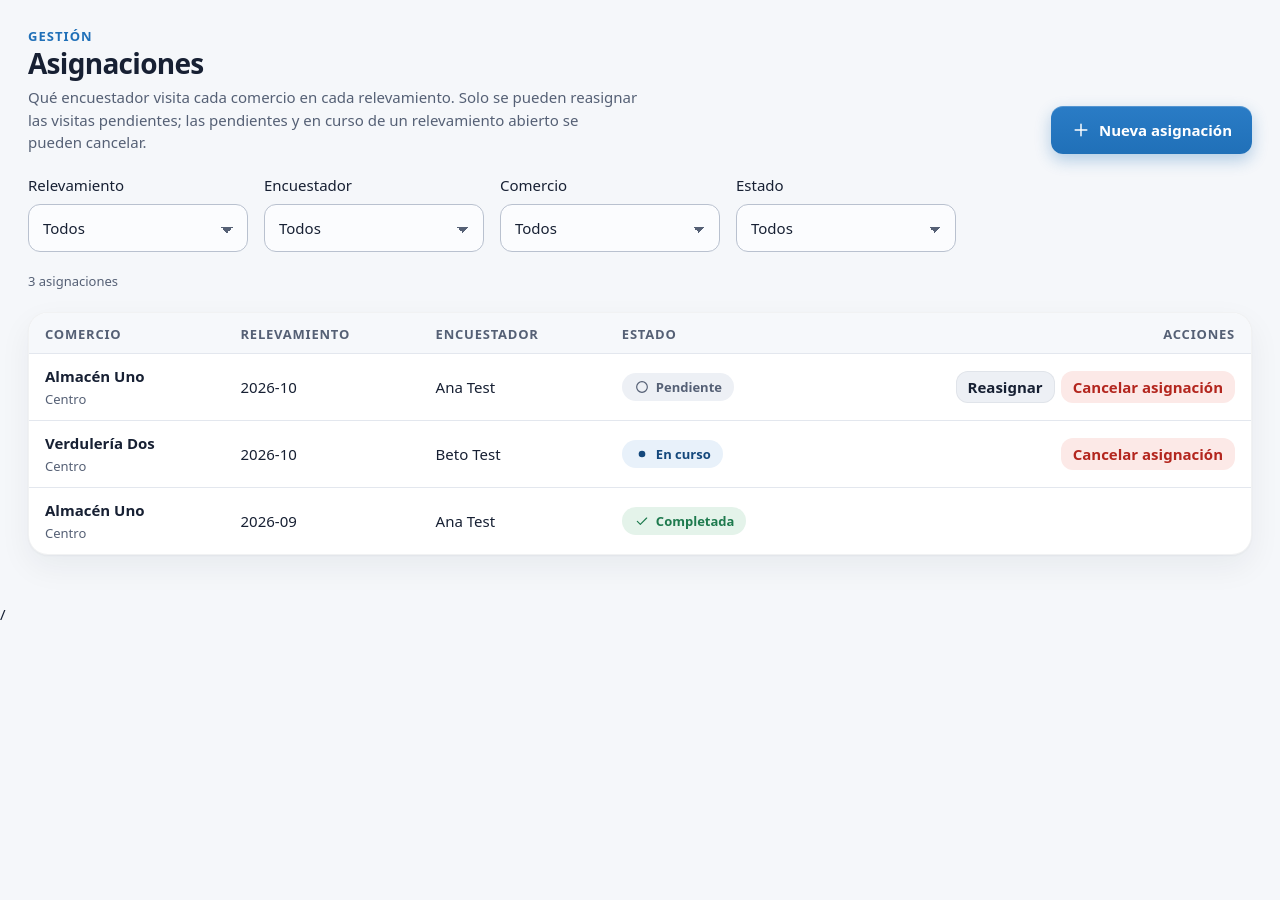
create asignacion, stable codes › RELEVAMIENTO_NOT_ABIERTO marks the relevamiento field, whatever the message says
Click the button "Nueva asignación".
click(1152, 130)  # box [1051, 106, 1252, 154]
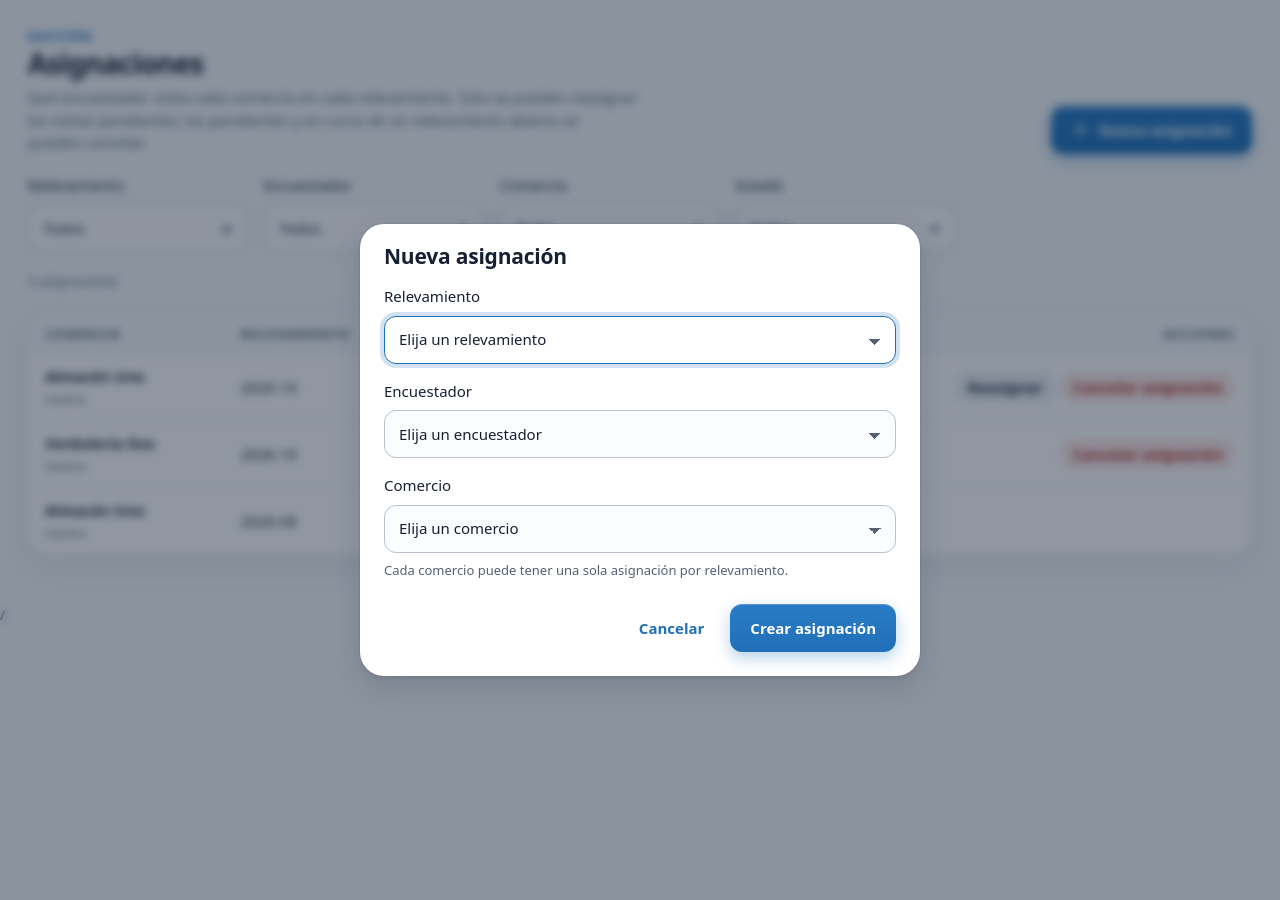
Select "2026-10" in the dropdown labelled "Relevamiento" at (640, 340), box [384, 316, 896, 364]
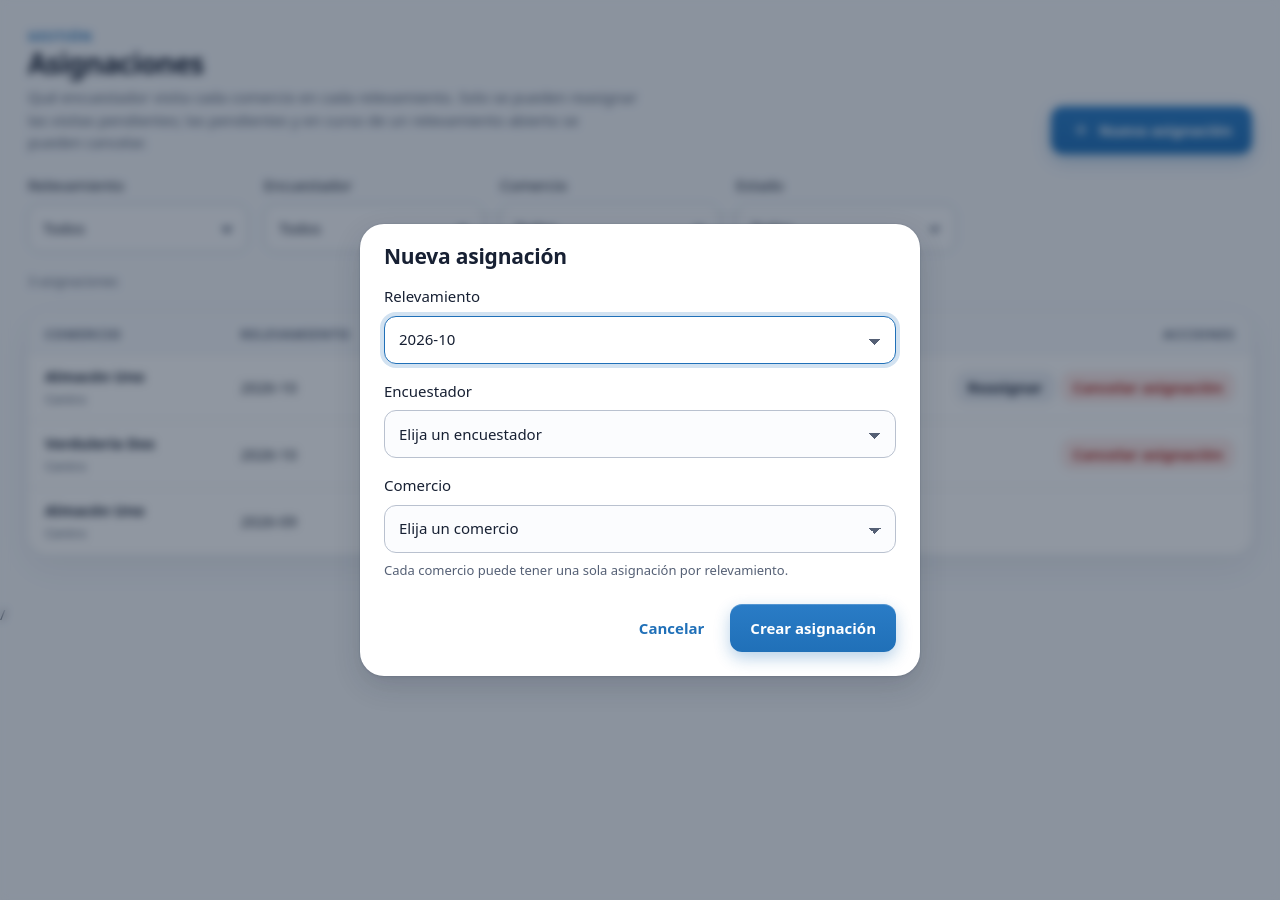
Select "Beto Test" in the dropdown labelled "Encuestador" at (640, 434), box [384, 410, 896, 458]
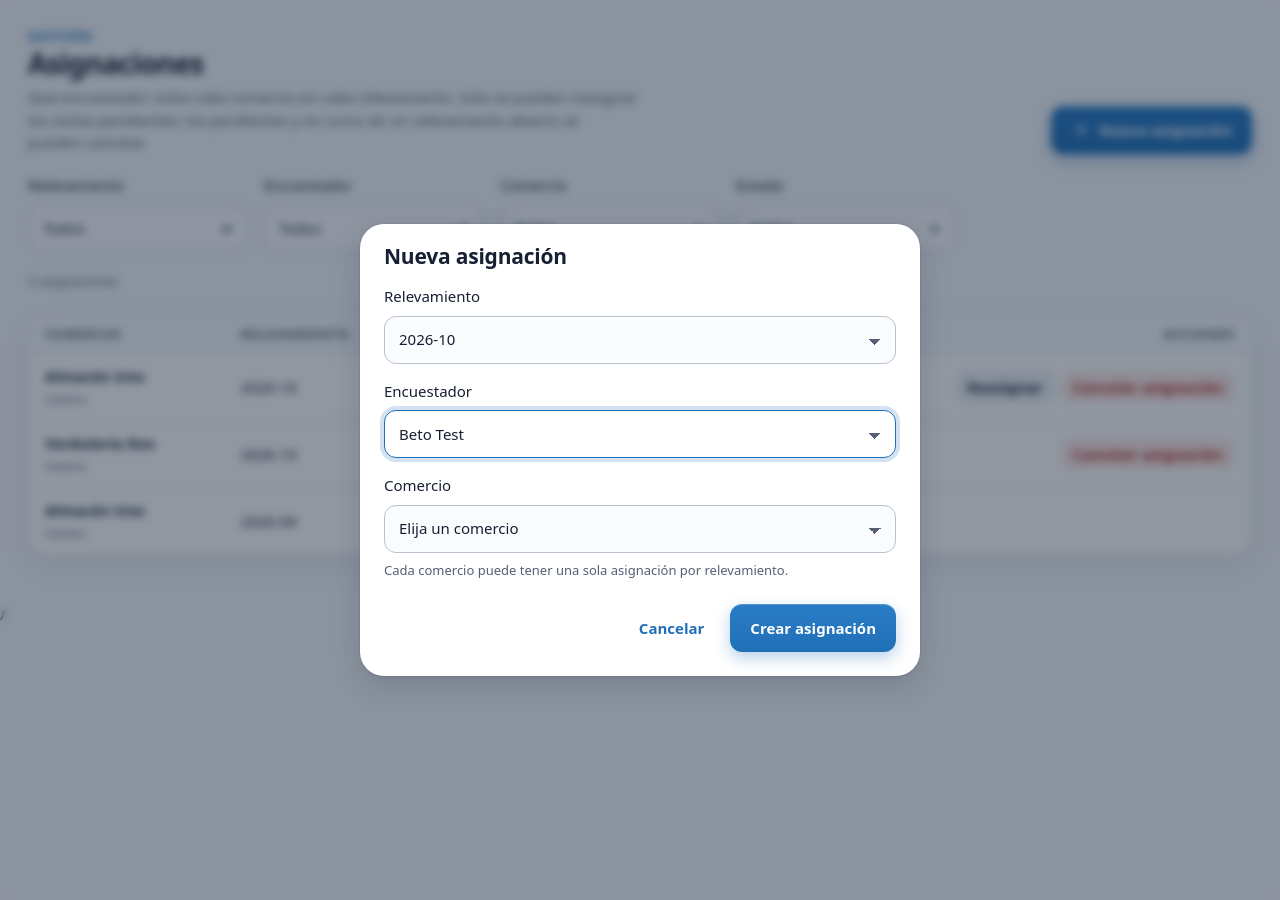
Select "Kiosco Tres (Centro)" in the dropdown labelled "Comercio" at (640, 529), box [384, 505, 896, 553]
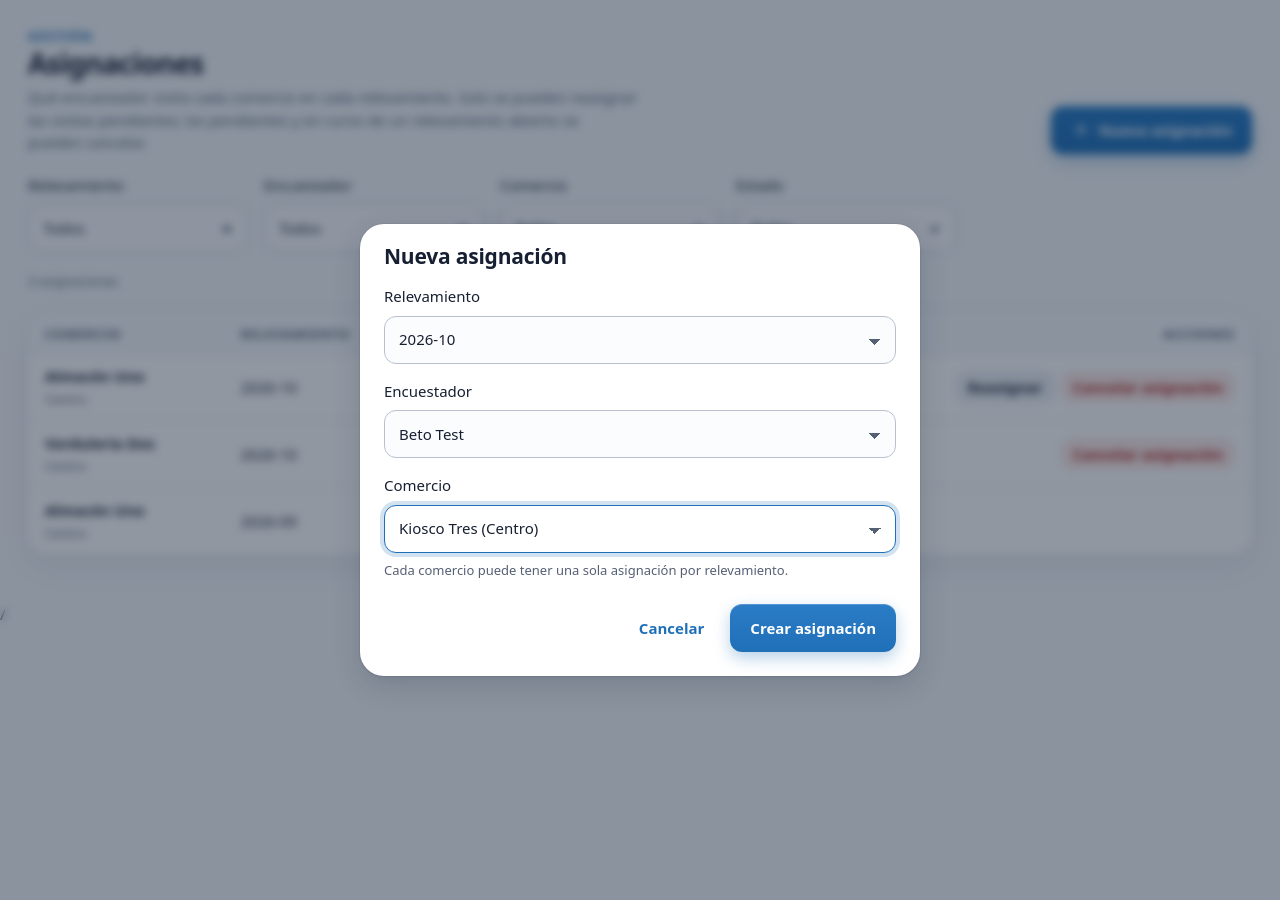
Click the button "Crear asignación".
click(813, 628)  # box [730, 604, 896, 652]
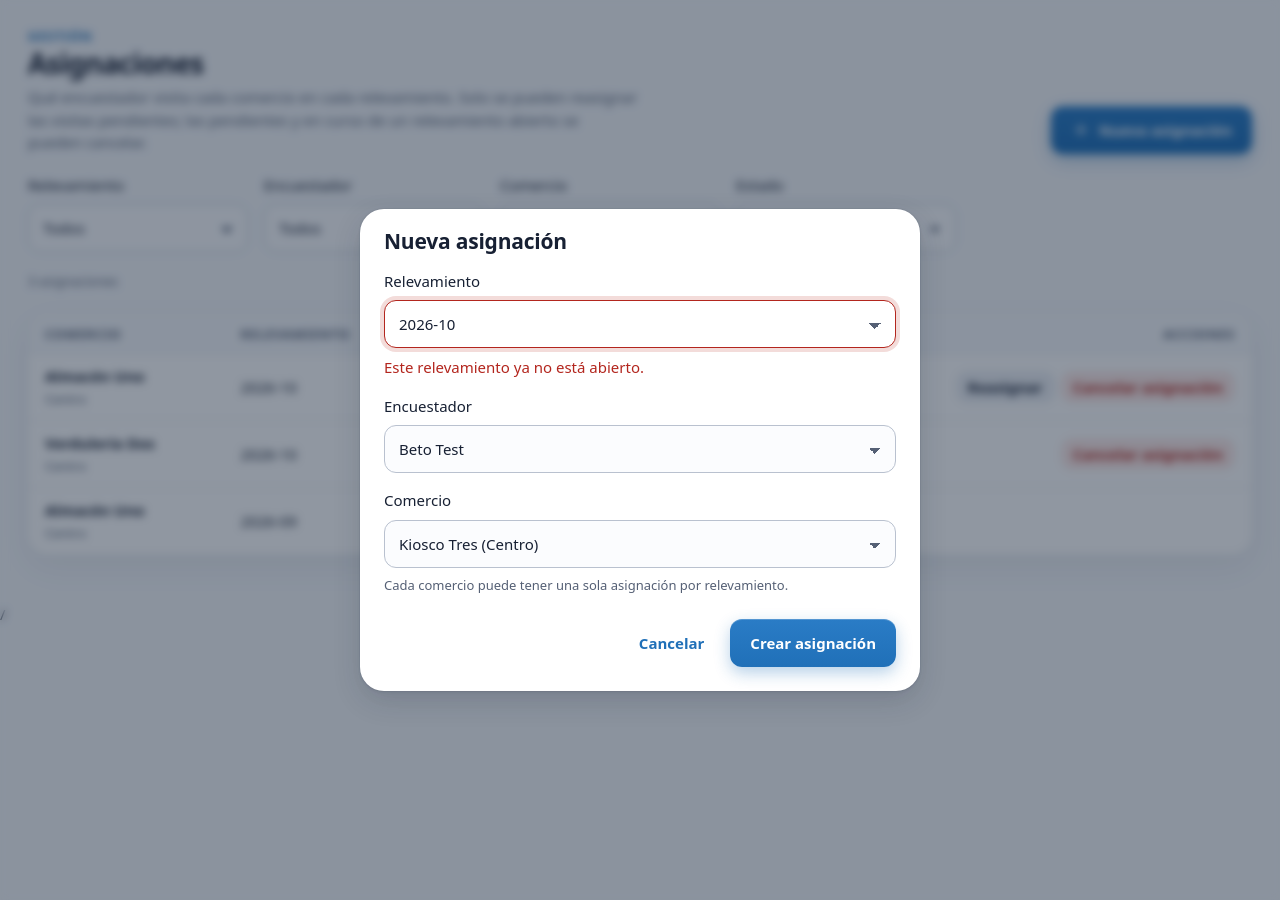
Result: the text "Este relevamiento ya no está abierto." is shown at [384, 357, 644, 377]
